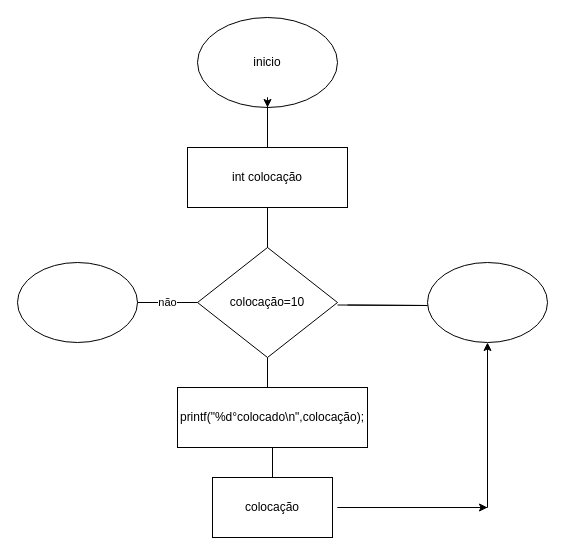
Image size: 565x555. Some labels were removed from this diagram. Here are the shapes that lost their labels. From the top down, the box of each, then its label:
(16, 262, 138, 342): fim
(426, 262, 548, 342): colocado
